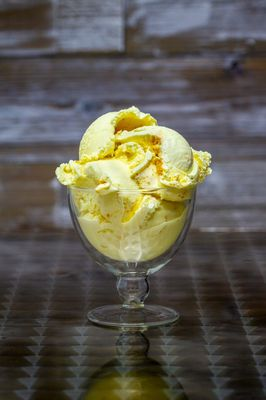sandwich: (58, 104, 210, 333)
soup: (55, 105, 213, 335)
